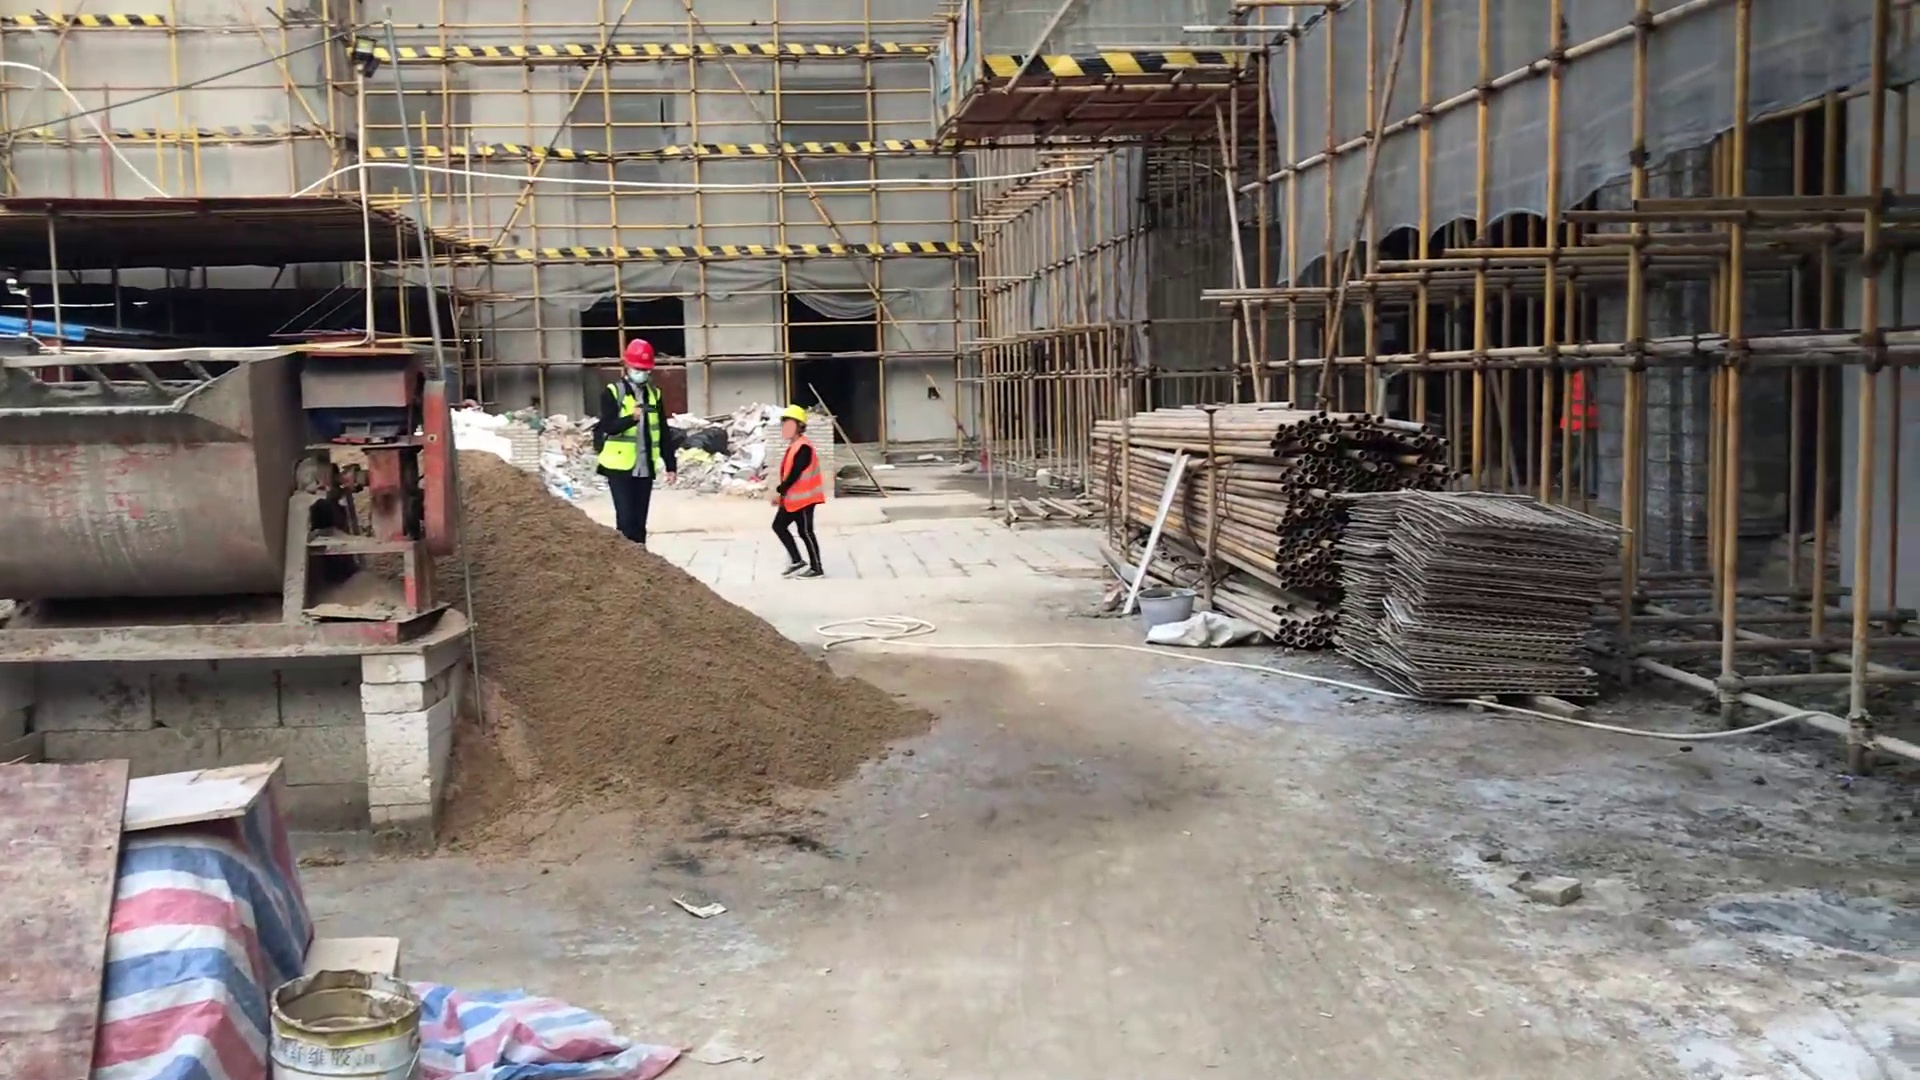helmet: (612, 337, 664, 380), (775, 400, 819, 435)
person: (586, 330, 671, 560), (760, 393, 845, 589)
vest: (595, 374, 669, 483), (769, 442, 829, 520)
